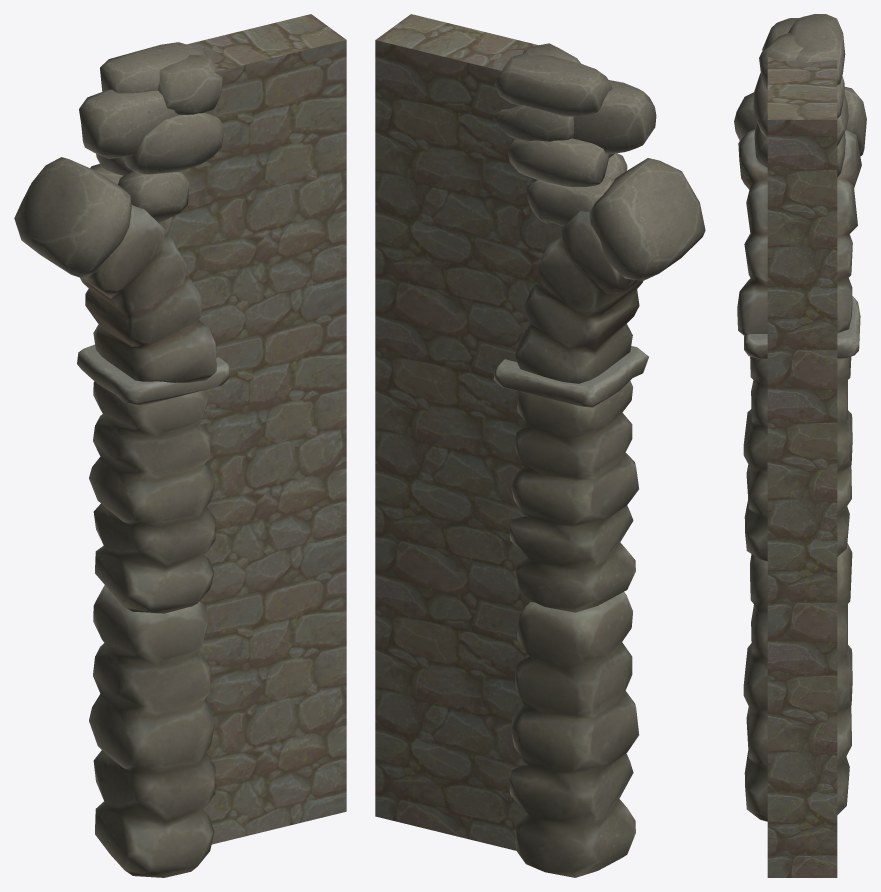
The model's file is SM_FW01_Ruins_Int_Doorway_A_6x6_Brkn_02.fbx.
3 views of the same model, side by side, from view 1: azimuth 30°, elevation 25°; view 2: azimuth 150°, elevation 25°; view 3: azimuth 270°, elevation 25° (orthographic). The views are drawn at different scales.
Visible parts, largest first — view 1: SM_FW01_Ruins_Int_Doorway_A_6x6_Brkn_02, SM_FW01_Ruins_Int_Doorway_A_6x6_Brkn_02_LOD0; view 2: SM_FW01_Ruins_Int_Doorway_A_6x6_Brkn_02, SM_FW01_Ruins_Int_Doorway_A_6x6_Brkn_02_LOD0; view 3: SM_FW01_Ruins_Int_Doorway_A_6x6_Brkn_02, SM_FW01_Ruins_Int_Doorway_A_6x6_Brkn_02_LOD0.
Part boxes in pixels (bbox=[...]): SM_FW01_Ruins_Int_Doorway_A_6x6_Brkn_02: bbox=[159, 14, 346, 844]; SM_FW01_Ruins_Int_Doorway_A_6x6_Brkn_02_LOD0: bbox=[14, 42, 229, 877]; SM_FW01_Ruins_Int_Doorway_A_6x6_Brkn_02: bbox=[375, 14, 563, 850]; SM_FW01_Ruins_Int_Doorway_A_6x6_Brkn_02_LOD0: bbox=[492, 43, 705, 877]; SM_FW01_Ruins_Int_Doorway_A_6x6_Brkn_02: bbox=[767, 56, 837, 877]; SM_FW01_Ruins_Int_Doorway_A_6x6_Brkn_02_LOD0: bbox=[734, 14, 866, 821].
Size of what is drawn, in the model's own units: 2.39 by 6.21 by 0.9534.
